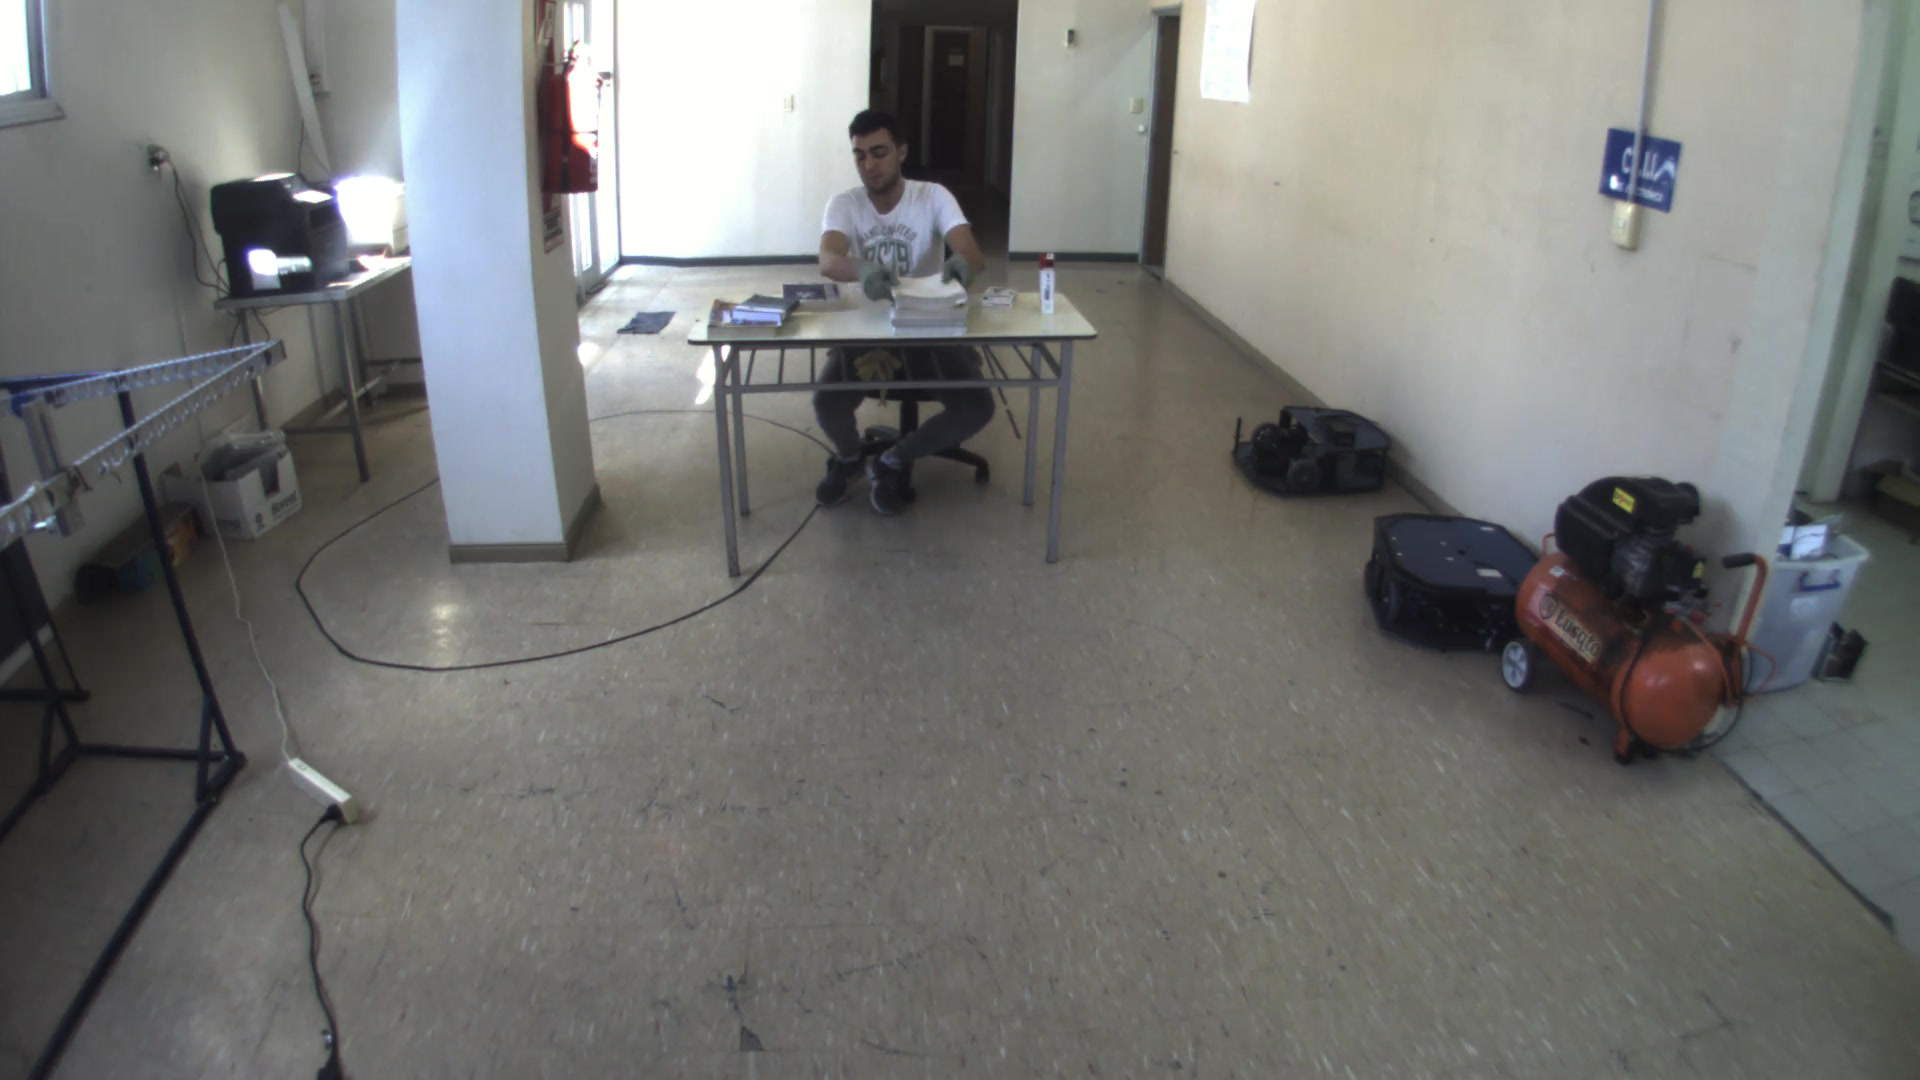hand: (856, 258, 905, 309), (942, 248, 976, 297)
